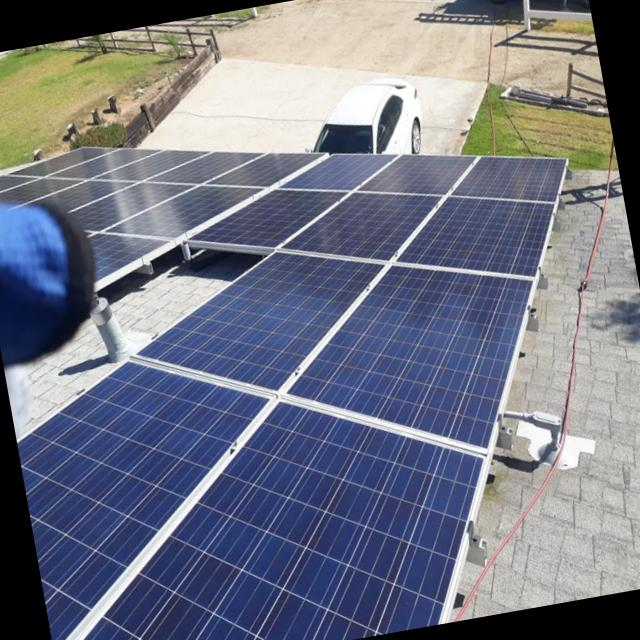no faulty: (17, 153, 570, 640)
